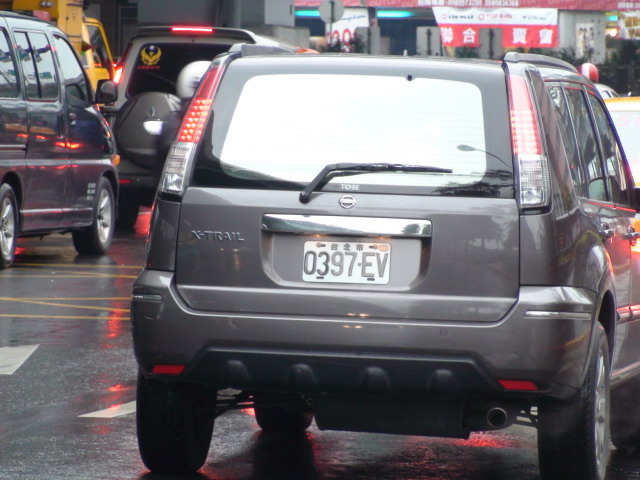plate: (300, 238, 394, 287)
